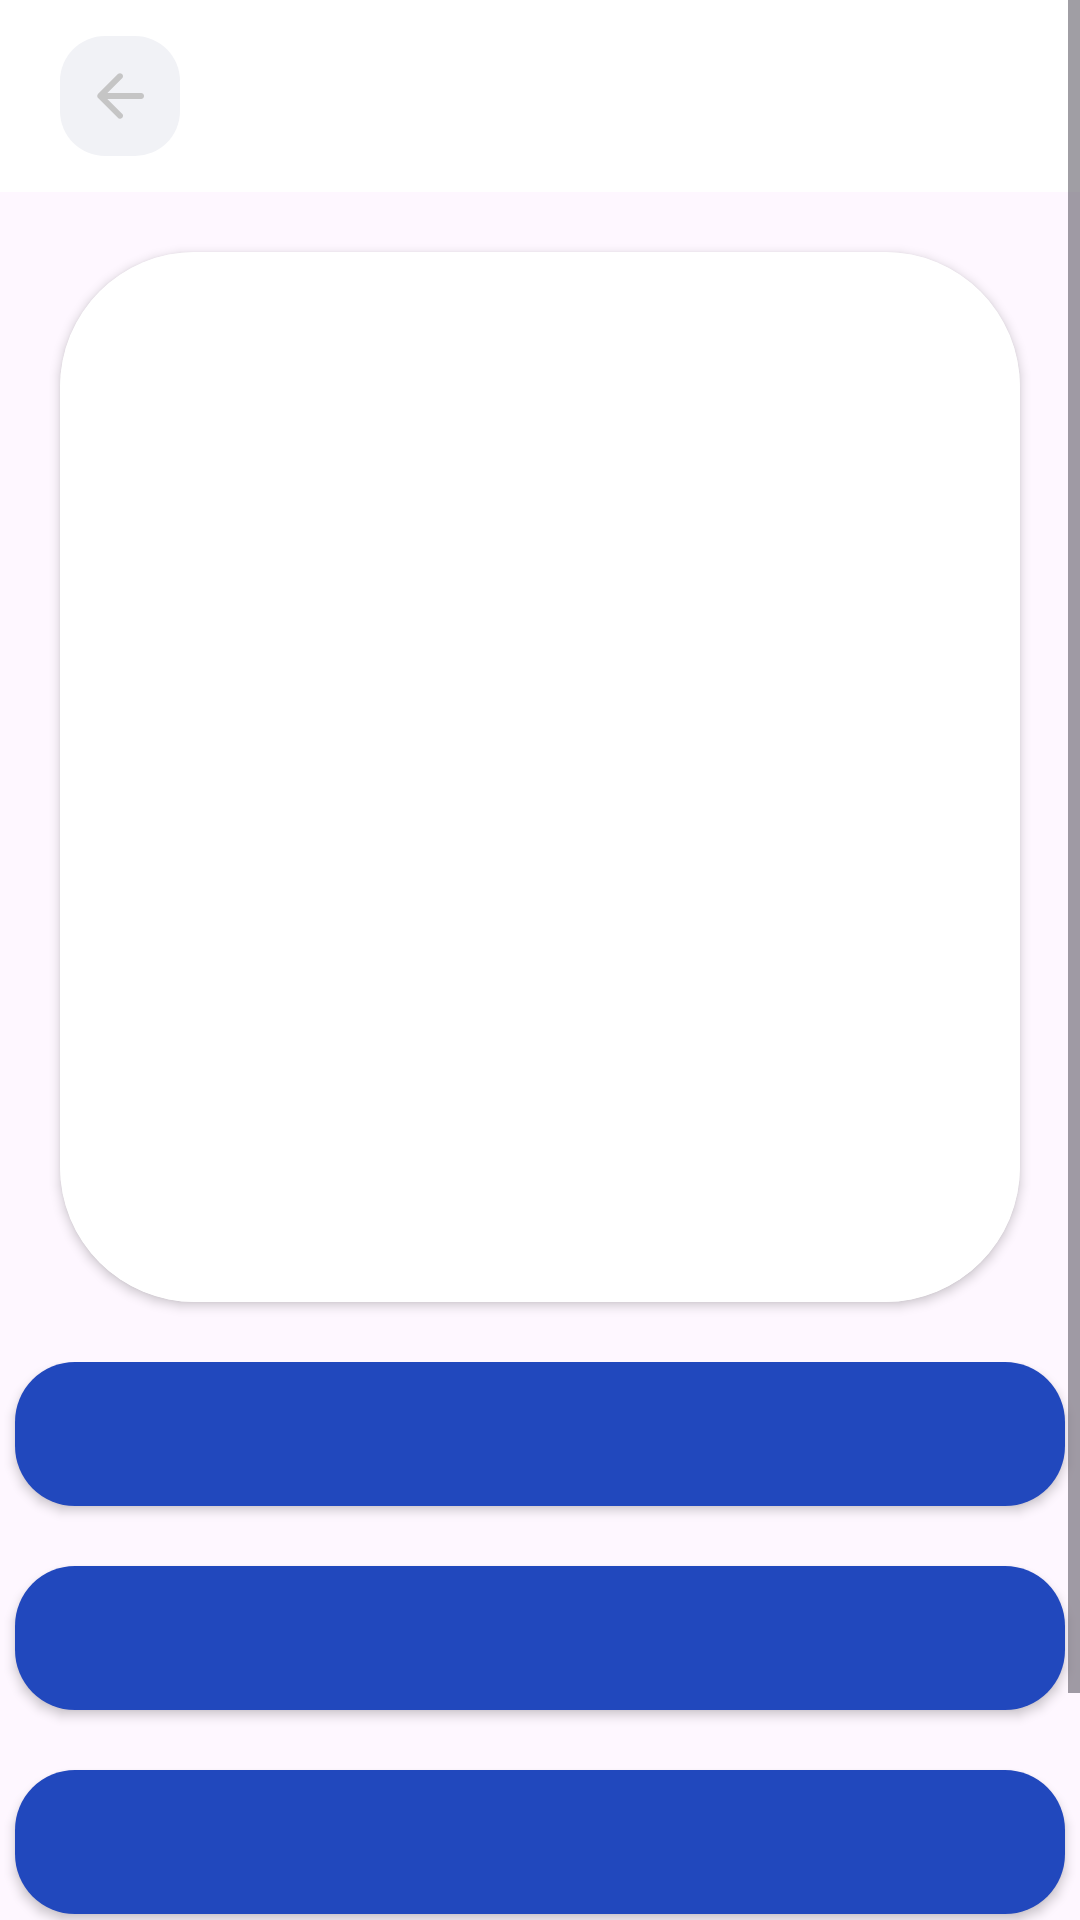

Icons on this 1080 × 1920 Android screen, each with the point to tap as (x=x, y=y):
arrow back: (x=120, y=96)
